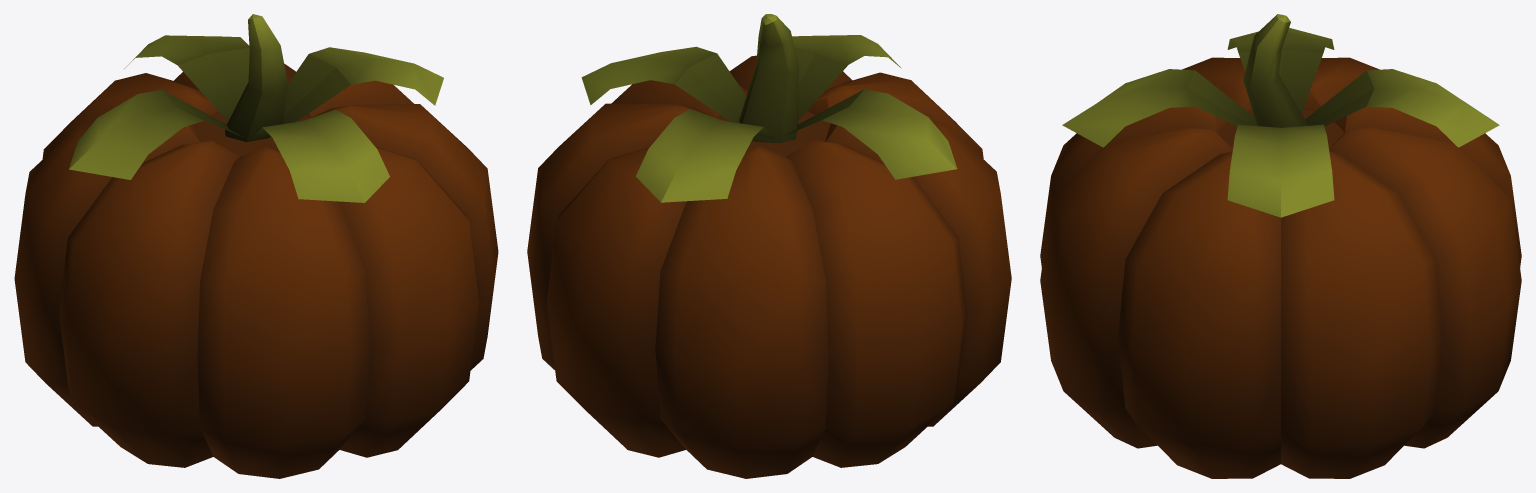
Rendered from Pumpkin.fbx.
3 renders of one model, left to right at view 1: azimuth 30°, elevation 25°; view 2: azimuth 150°, elevation 25°; view 3: azimuth 270°, elevation 25°, orthographic.
Visible parts, largest first — view 1: Pumpkin_1; view 2: Pumpkin_1; view 3: Pumpkin_1.
Part boxes in pixels (<box>): Pumpkin_1: <box>14,14,498,478</box>; Pumpkin_1: <box>527,14,1011,478</box>; Pumpkin_1: <box>1040,14,1521,478</box>.
Bounding box in the file's own units: 139 × 130 × 139.
